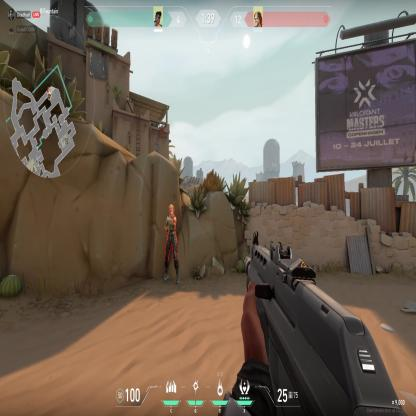enemy: (161, 202, 181, 284)
